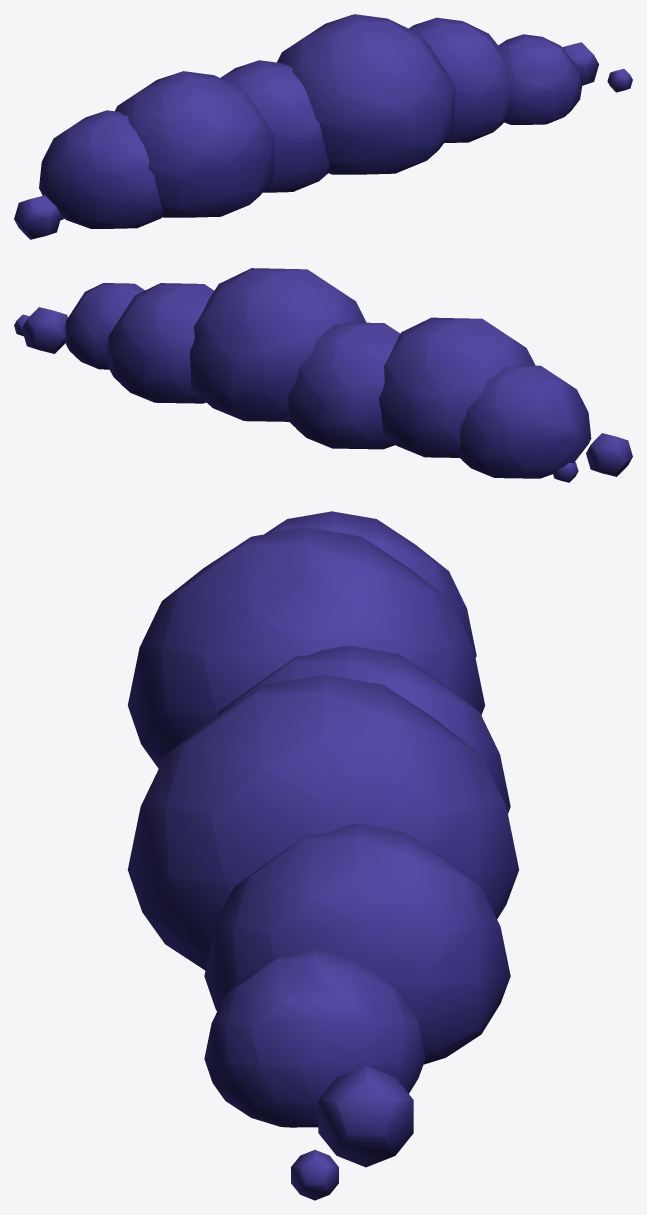
The model's file is cloud_cluster.glb.
3 views of the same model, one above another, from view 1: azimuth 30°, elevation 25°; view 2: azimuth 150°, elevation 25°; view 3: azimuth 270°, elevation 25° (orthographic). The views are drawn at different scales.
Visible parts, largest first — view 1: CloudCluster; view 2: CloudCluster; view 3: CloudCluster.
Boxes of the visible parts, <box> form: CloudCluster: <box>14,14,632,239</box>; CloudCluster: <box>14,268,632,482</box>; CloudCluster: <box>127,511,519,1200</box>.
Size of the model in its own units: 8.25 by 1.82 by 2.3.
